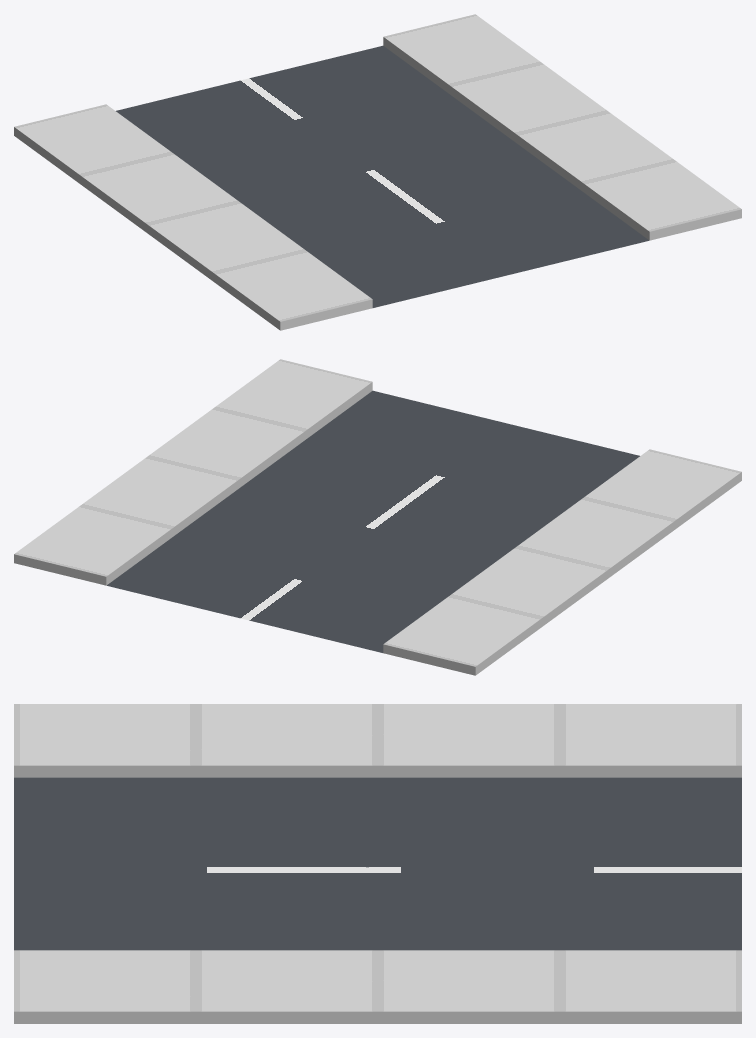
Rendered from road2.fbx.
3 renders of one model, top to bottom at view 1: azimuth 30°, elevation 25°; view 2: azimuth 150°, elevation 25°; view 3: azimuth 270°, elevation 25°, orthographic. The views are drawn at different scales.
Visible parts, largest first — view 1: road2; view 2: road2; view 3: road2.
Boxes of the visible parts, box(x1,y1,x2,y2) form: road2: box(14, 14, 741, 330); road2: box(14, 359, 741, 675); road2: box(14, 704, 741, 1023).
Bounding box in the file's own units: 1000 × 18.48 × 1000.
